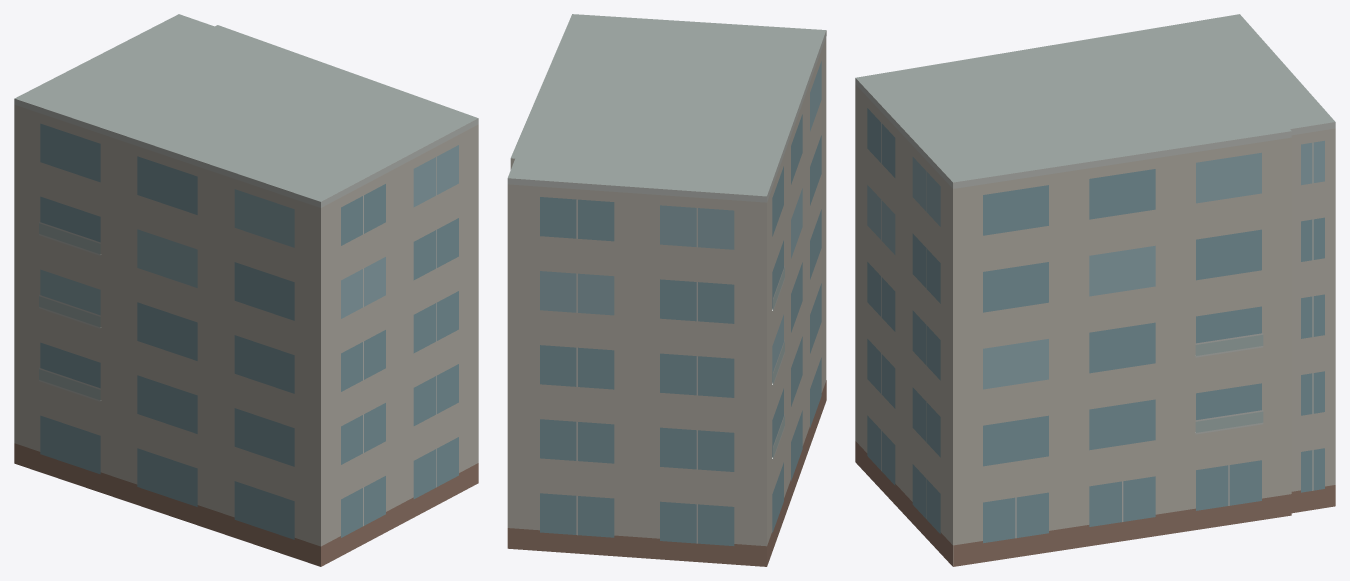
Rendered from survey-upis-32524259.glb.
The picture shows the model from 3 angles, left to right: view 1: azimuth 30°, elevation 25°; view 2: azimuth 150°, elevation 25°; view 3: azimuth 270°, elevation 25°; orthographic projection. The views are drawn at different scales.
Visible parts, largest first — view 1: survey-upis-32524259.tmp; view 2: survey-upis-32524259.tmp; view 3: survey-upis-32524259.tmp.
Boxes of the visible parts, x1,y1,x2,y2 form: survey-upis-32524259.tmp: (14, 14, 478, 566); survey-upis-32524259.tmp: (507, 14, 826, 566); survey-upis-32524259.tmp: (855, 14, 1335, 566).
Bounding box in the file's own units: 13.79 × 14.65 × 16.6.
